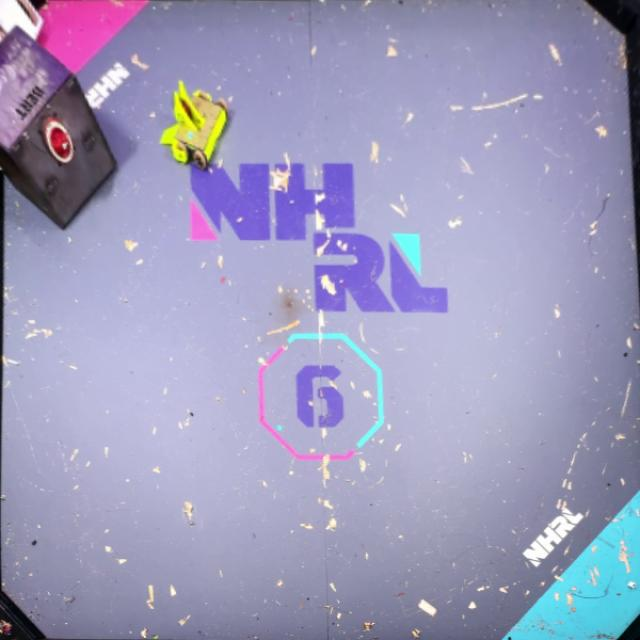housebot: (0, 23, 119, 230)
robot: (158, 81, 233, 169), (0, 0, 43, 45)
